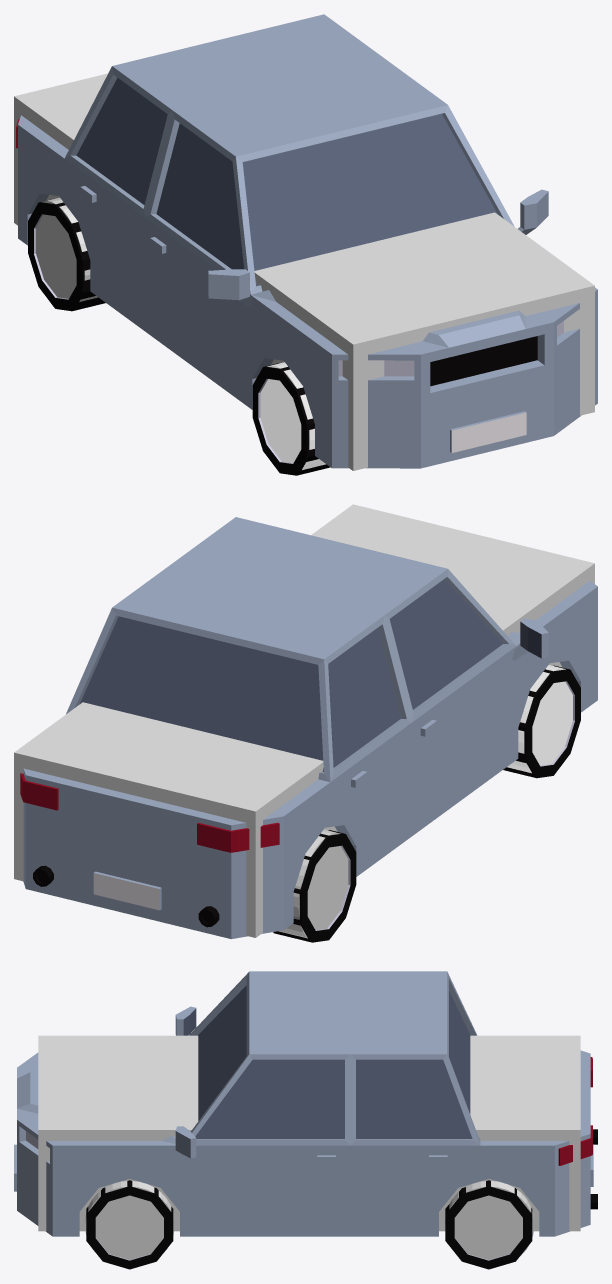
Rendered from sedan.glb.
The picture shows the model from 3 angles, top to bottom: view 1: azimuth 30°, elevation 25°; view 2: azimuth 150°, elevation 25°; view 3: azimuth 270°, elevation 25°; orthographic projection. The views are drawn at different scales.
Visible parts, largest first — view 1: Sedan, Cube, Cylinder.003, Cylinder, BackWheelRight, FrontWheelRight; view 2: Sedan, Cube, Cylinder, Cylinder.003, FrontWheelRight, BackWheelRight; view 3: Sedan, Cube, Cylinder.001, Cylinder.002, BackWheelLeft, FrontWheelLeft.
Boxes of the visible parts, box(x1,y1,x2,y2) form: Sedan: box(16, 14, 597, 468); Cube: box(14, 73, 594, 470); Cylinder.003: box(260, 362, 325, 469); Cylinder: box(34, 197, 97, 301); BackWheelRight: box(28, 198, 105, 311); FrontWheelRight: box(252, 363, 330, 475); Sedan: box(20, 517, 597, 939); Cube: box(14, 504, 594, 937); Cylinder: box(278, 829, 348, 938); Cylinder.003: box(507, 665, 572, 773); FrontWheelRight: box(503, 665, 580, 778); BackWheelRight: box(273, 830, 356, 942); Sedan: box(14, 971, 597, 1236); Cube: box(38, 1035, 580, 1231); Cylinder.001: box(85, 1181, 174, 1259); Cylinder.002: box(445, 1181, 533, 1259); BackWheelLeft: box(445, 1180, 532, 1269); FrontWheelLeft: box(86, 1180, 173, 1269).
Bounding box in the file's own units: 2.81 × 2.01 × 5.23.
